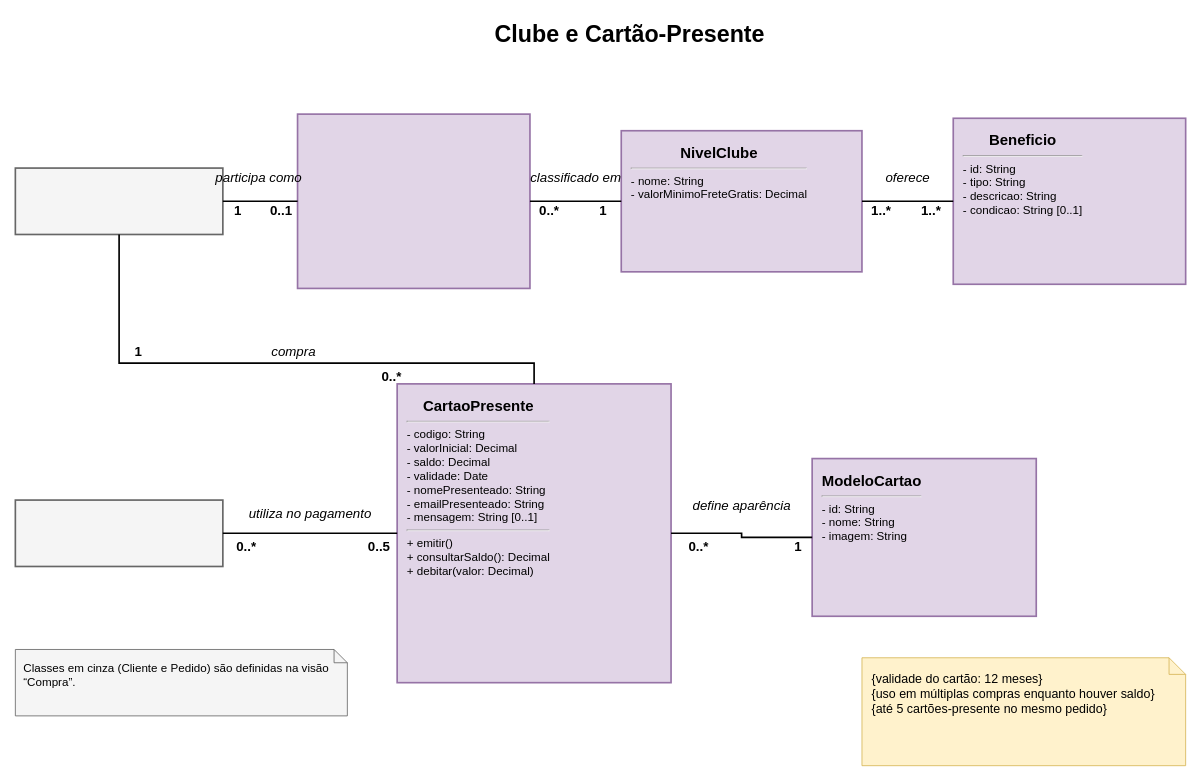
Image size: 1200x780. Some labels were removed from this diagram. The shapes that lost their labels are listed below. From the top down, each one's centre as x and y in pixels, then its label:
[118,201]: Cliente
[413,201]: MembroClube - dataAdesao: Date - status: String + consultarBeneficios()
[118,533]: Pedido
